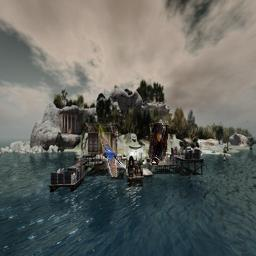Swallow: (100, 125, 127, 177), (148, 121, 168, 165)
